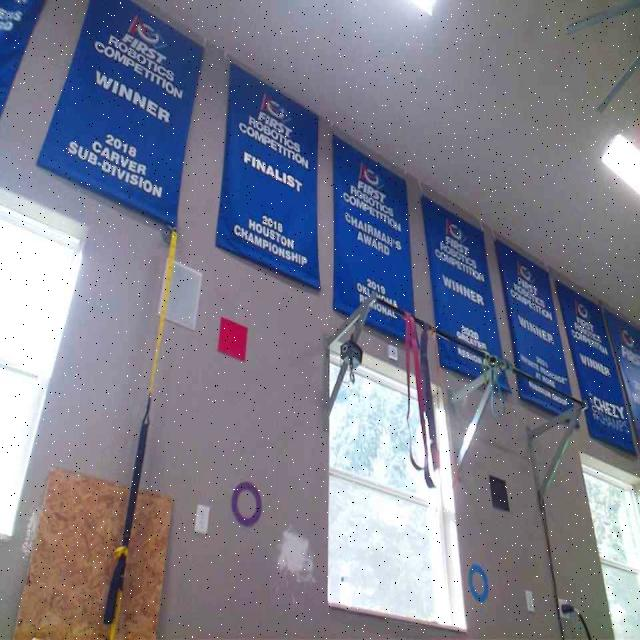ring_blue: (468, 562, 490, 601)
ring_purple: (232, 481, 262, 526)
square_black: (486, 471, 511, 512)
square_red: (214, 316, 247, 360)
